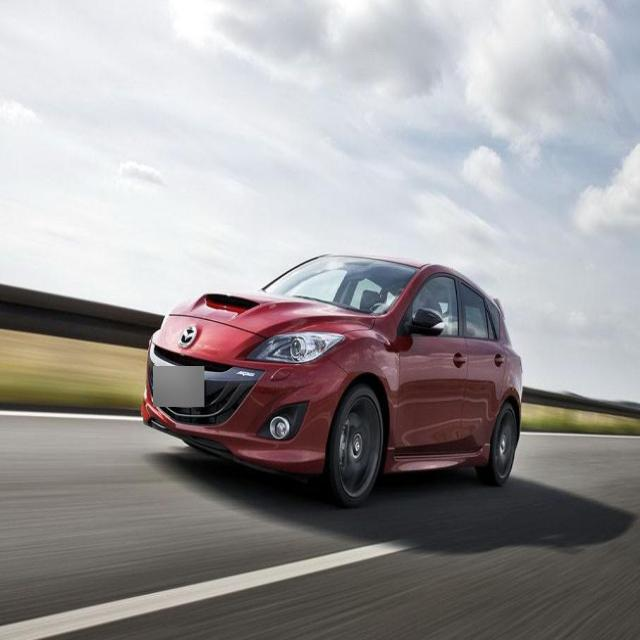door: (460, 275, 508, 452)
front_bumper: (144, 334, 352, 476)
front_glass: (262, 253, 418, 321)
front_left_side_door: (392, 270, 470, 460)
front_left_side_light: (243, 329, 347, 364)
front_left_side_mirror: (404, 308, 446, 338)
wheel: (327, 384, 386, 504), (483, 404, 518, 481)
